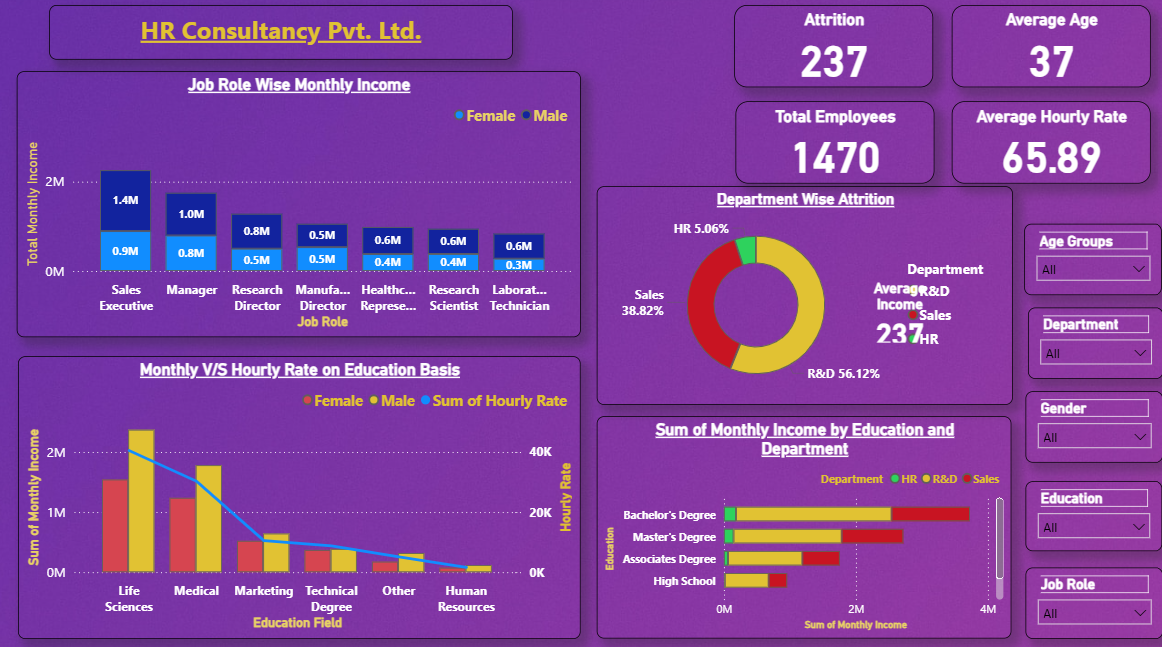

The dashboard page shown, as its layout file describes it:
{"tool":"powerbi","page":{"name":"Page 1","canvas":[1280,720],"ordinal":0},"visuals":[{"type":"card","title":"Total Employees","fields":{"Values":["CountNonNull(HRdata.Employee Number)"]},"box":[809.1,116.8,218.4,90.7],"z":0},{"type":"card","title":"Attrition","fields":{"Values":["Sum(HRdata.attrition Count)"]},"box":[807.7,11,218.4,90.7],"z":1000},{"type":"card","title":"Average Hourly Rate","fields":{"Values":["Avg(HRdata.Hourly Rate)"]},"box":[1046.8,116.8,218.4,90.7],"z":2000},{"type":"card","title":"Average Age","fields":{"Values":["Avg(HRdata.Age)"]},"box":[1046.8,11,218.4,90.7],"z":3000},{"type":"donutChart","title":"Department Wise Attrition","fields":{"Category":["HRdata.Department"],"Y":["Sum(HRdata.attrition Count)"]},"box":[657.3,209.9,456.9,240.1],"z":4000},{"type":"card","title":"Average  Income","fields":{"Values":["Sum(HRdata.attrition Count)"]},"box":[933.1,312.9,113.9,74.1],"z":5000},{"type":"columnChart","title":"Job Role Wise Monthly Income","fields":{"Category":["HRdata.Job Role"],"Y":["Sum(HRdata.Monthly Income)"],"Series":["HRdata.Gender"]},"box":[20.6,83.7,618.9,292.3],"z":6000},{"type":"lineClusteredColumnComboChart","title":"Monthly V/S Hourly Rate on Education Basis","fields":{"Category":["HRdata.Education Field"],"Y":["Sum(HRdata.Monthly Income)"],"Y2":["Sum(HRdata.Hourly Rate)"],"Series":["HRdata.Gender"]},"box":[22,396.6,617.5,310.1],"z":7000},{"type":"barChart","fields":{"Category":["HRdata.Education"],"Y":["Sum(HRdata.Monthly Income)"],"Series":["HRdata.Department"]},"box":[657.3,462.4,455.6,244.3],"z":8000},{"type":"slicer","fields":{"Values":["HRdata.CF_age band"]},"box":[1126.6,251.1,152.3,78.2],"z":9000},{"type":"slicer","fields":{"Values":["HRdata.Education"]},"box":[1128,533.8,150.9,76.8],"z":10000},{"type":"slicer","fields":{"Values":["HRdata.Job Role"]},"box":[1128,628.5,152.3,78.2],"z":11000},{"type":"slicer","fields":{"Values":["HRdata.Department"]},"box":[1130.7,343.1,149.6,78.2],"z":12000},{"type":"slicer","fields":{"Values":["HRdata.Gender"]},"box":[1128,435,152.3,78.2],"z":14000},{"type":"textbox","box":[56.3,11,509.1,60.4],"z":15000}]}

Visuals, with their boxes in screenshot pixels (x1, y1, x2, y2), scaled from the page's 1280x720 canvas onto the 1162x647 screenshot:
"Total Employees" card: bbox=[735, 105, 933, 186]
"Attrition" card: bbox=[733, 10, 932, 91]
"Average Hourly Rate" card: bbox=[950, 105, 1149, 186]
"Average Age" card: bbox=[950, 10, 1149, 91]
"Department Wise Attrition" donutChart: bbox=[597, 189, 1011, 404]
"Average  Income" card: bbox=[847, 281, 950, 348]
"Job Role Wise Monthly Income" columnChart: bbox=[19, 75, 581, 338]
"Monthly V/S Hourly Rate on Education Basis" lineClusteredColumnComboChart: bbox=[20, 356, 581, 635]
barChart - HRdata.Education x Sum(HRdata.Monthly Income): bbox=[597, 416, 1010, 635]
slicer - HRdata.CF_age band: bbox=[1023, 226, 1161, 296]
slicer - HRdata.Education: bbox=[1024, 480, 1161, 549]
slicer - HRdata.Job Role: bbox=[1024, 565, 1161, 635]
slicer - HRdata.Department: bbox=[1026, 308, 1161, 379]
slicer - HRdata.Gender: bbox=[1024, 391, 1161, 461]
textbox: bbox=[51, 10, 513, 64]
